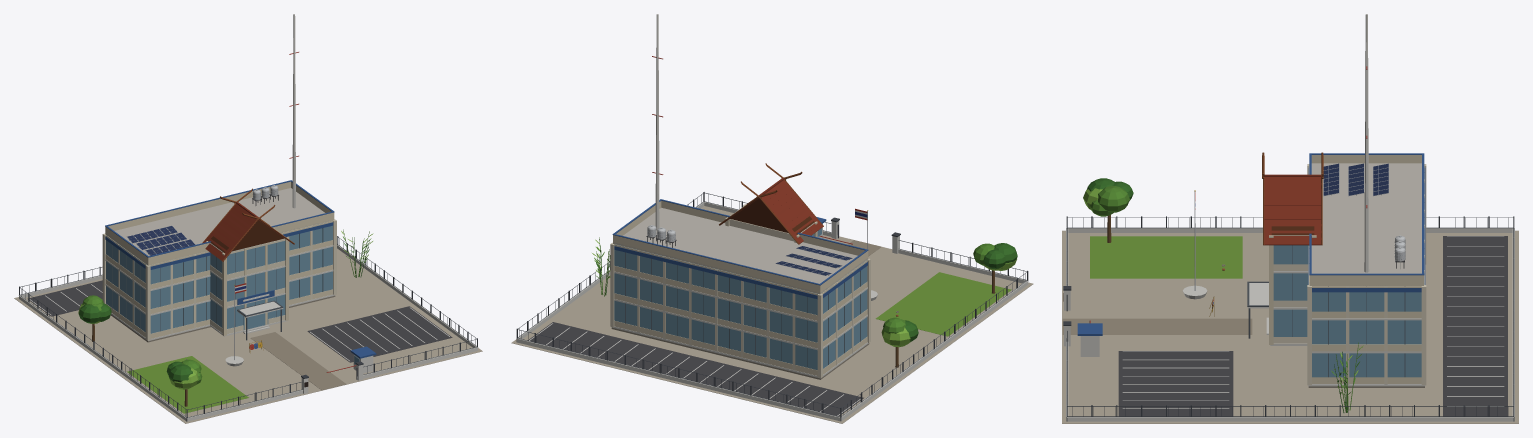
File: police.glb
3 views of the same model, side by side, from view 1: azimuth 30°, elevation 25°; view 2: azimuth 150°, elevation 25°; view 3: azimuth 270°, elevation 25° (orthographic). The views are drawn at different scales.
Parts seen in each view (by area): view 1: body; view 2: body; view 3: body.
Part boxes in pixels (x1,y1,x2,y2): body: (14,14,482,423); body: (511,14,1033,423); body: (1062,14,1518,423).
Bounding box in the file's own units: 47.9 × 42.03 × 47.9.
